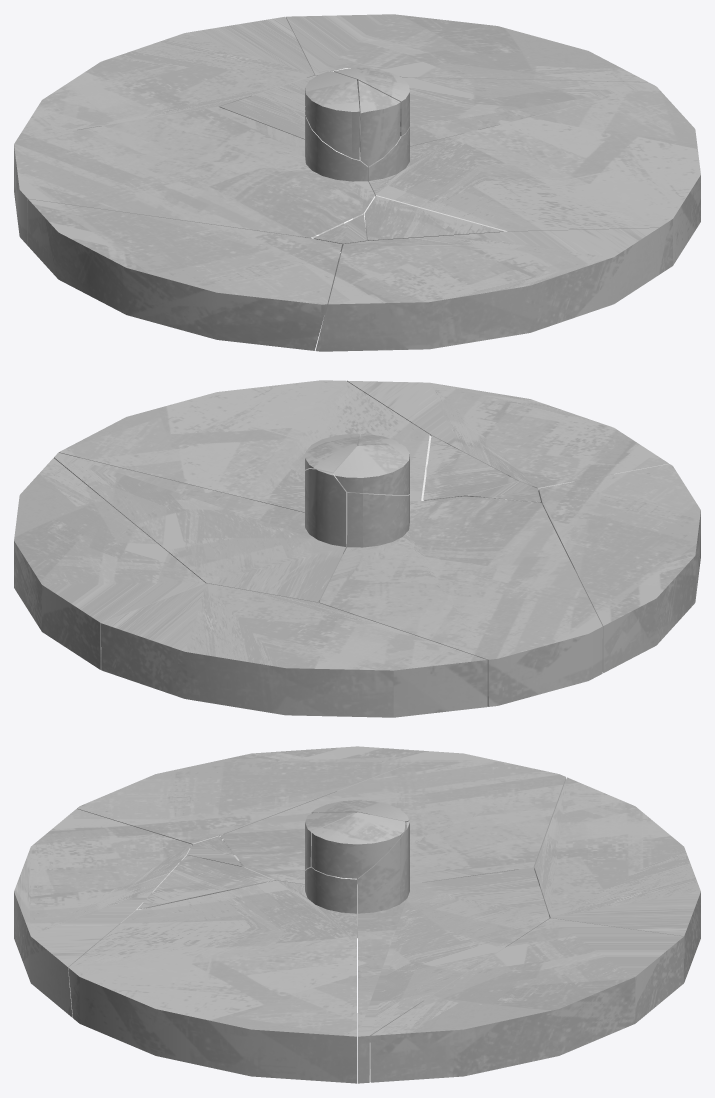
Rendered from PotlidBreak.fbx.
3 views of the same model, one above another, from view 1: azimuth 30°, elevation 25°; view 2: azimuth 150°, elevation 25°; view 3: azimuth 270°, elevation 25° (orthographic).
Parts seen in each view (by area): view 1: Potlid_cell.002, Potlid_cell.003, Potlid_cell.008, Potlid_cell.007, Potlid_cell.006, Potlid_cell.004, Potlid_cell, Potlid_cell.009, Potlid_cell.010, Potlid_cell.001, Potlid_cell.005, Potlid_cell.011; view 2: Potlid_cell.003, Potlid_cell.006, Potlid_cell.002, Potlid_cell.007, Potlid_cell, Potlid_cell.004, Potlid_cell.008, Potlid_cell.010, Potlid_cell.009, Potlid_cell.005, Potlid_cell.011; view 3: Potlid_cell.002, Potlid_cell.004, Potlid_cell.003, Potlid_cell, Potlid_cell.008, Potlid_cell.006, Potlid_cell.007, Potlid_cell.005, Potlid_cell.010, Potlid_cell.009, Potlid_cell.011, Potlid_cell.001.
Boxes of the visible parts, <box> form: Potlid_cell.002: <box>368,86,700,270</box>; Potlid_cell.003: <box>14,106,375,273</box>; Potlid_cell.008: <box>315,228,664,351</box>; Potlid_cell.007: <box>28,199,342,350</box>; Potlid_cell.006: <box>17,16,314,139</box>; Potlid_cell.004: <box>286,14,647,82</box>; Potlid_cell: <box>220,68,655,146</box>; Potlid_cell.009: <box>305,71,359,159</box>; Potlid_cell.010: <box>364,196,504,240</box>; Potlid_cell.001: <box>358,80,400,166</box>; Potlid_cell.005: <box>334,67,409,135</box>; Potlid_cell.011: <box>313,214,366,251</box>; Potlid_cell.003: <box>319,492,602,706</box>; Potlid_cell.006: <box>101,583,487,717</box>; Potlid_cell.002: <box>59,380,431,512</box>; Potlid_cell.007: <box>538,464,700,672</box>; Potlid_cell: <box>54,452,349,602</box>; Potlid_cell.004: <box>14,458,205,669</box>; Potlid_cell.008: <box>347,380,668,490</box>; Potlid_cell.010: <box>423,435,518,500</box>; Potlid_cell.009: <box>334,444,409,494</box>; Potlid_cell.005: <box>305,433,359,473</box>; Potlid_cell.011: <box>467,481,540,501</box>; Potlid_cell.002: <box>68,867,356,1083</box>; Potlid_cell.004: <box>370,918,683,1082</box>; Potlid_cell.003: <box>219,752,565,938</box>; Potlid_cell: <box>357,821,549,1083</box>; Potlid_cell.008: <box>14,809,191,1017</box>; Potlid_cell.006: <box>534,777,700,982</box>; Potlid_cell.007: <box>77,746,440,845</box>; Potlid_cell.005: <box>311,812,405,878</box>; Potlid_cell.010: <box>138,855,273,909</box>; Potlid_cell.009: <box>311,800,409,822</box>; Potlid_cell.011: <box>187,836,241,866</box>; Potlid_cell.001: <box>305,812,355,869</box>.
Bounding box in the file's own units: 158 × 32.06 × 158.
